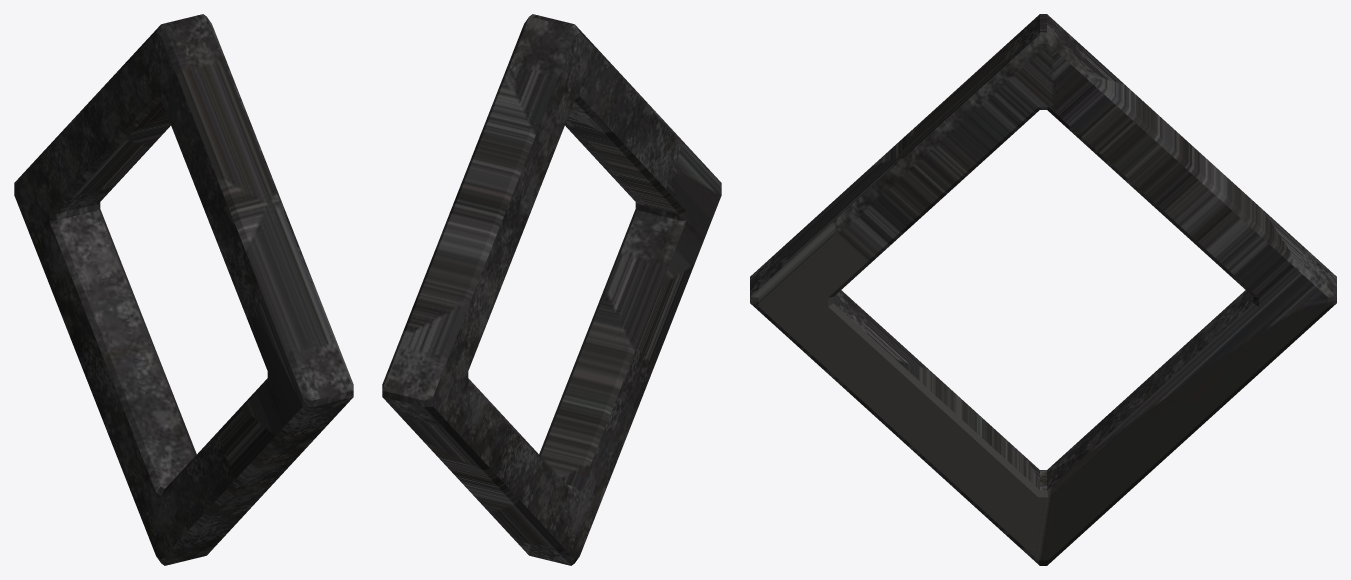
File: batterycharge1.glb
3 renders of one model, left to right at view 1: azimuth 30°, elevation 25°; view 2: azimuth 150°, elevation 25°; view 3: azimuth 270°, elevation 25°, orthographic.
Parts seen in each view (by area): view 1: BatteryCharge1; view 2: BatteryCharge1; view 3: BatteryCharge1.
Boxes of the visible parts, x1,y1,x2,y2 form: BatteryCharge1: (14,14,353,565); BatteryCharge1: (382,14,721,565); BatteryCharge1: (750,14,1336,565).
Size of the model in its own units: 1.17 by 11.81 by 11.81.
Materials: 1 (1 with a texture image).
